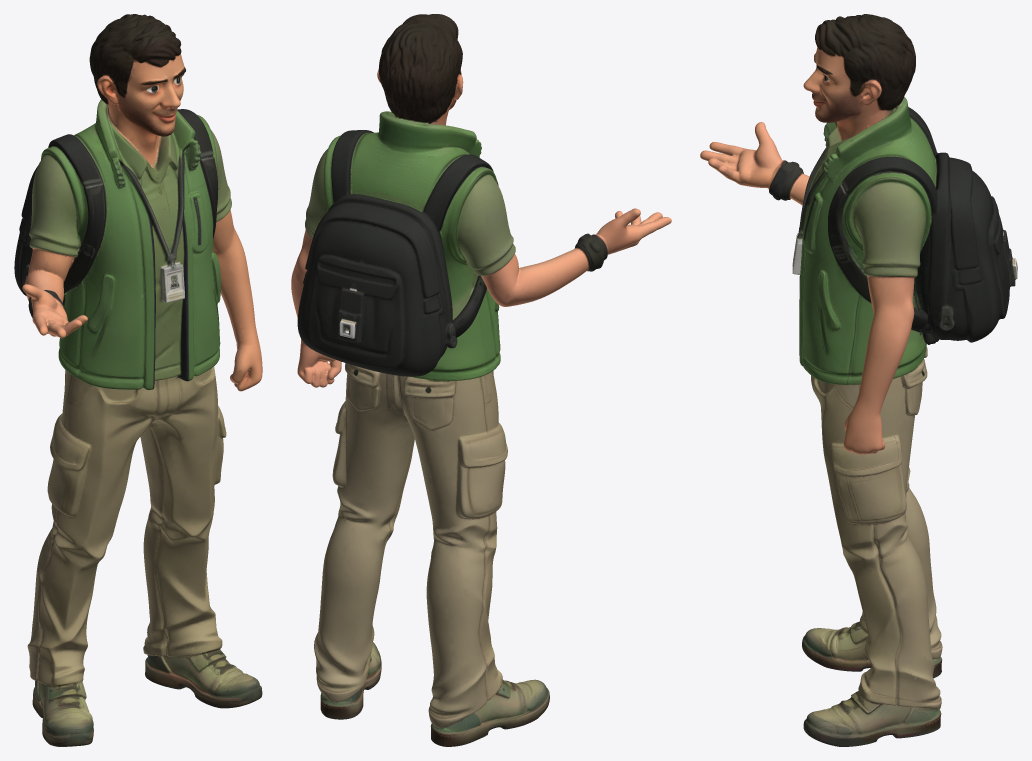
File: Tomas_Meshy.glb
3 renders of one model, left to right at view 1: azimuth 30°, elevation 25°; view 2: azimuth 150°, elevation 25°; view 3: azimuth 270°, elevation 25°, orthographic.
Parts seen in each view (by area): view 1: Mesh_0.002; view 2: Mesh_0.002; view 3: Mesh_0.002.
Part boxes in pixels (x1=…): Mesh_0.002: x1=14, y1=14, x2=262, y2=746; Mesh_0.002: x1=291, y1=14, x2=671, y2=746; Mesh_0.002: x1=700, y1=14, x2=1017, y2=746.
Size of the model in its own units: 0.8087 by 1.8 by 0.7591.
Materials: 1 (1 with a texture image).
